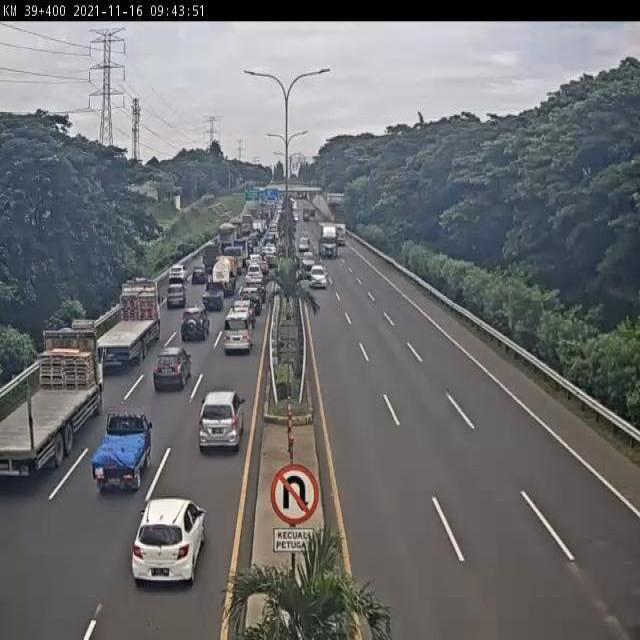car: (132, 497, 205, 587), (93, 412, 152, 491), (199, 392, 244, 451), (153, 347, 191, 388), (223, 314, 253, 354), (181, 308, 211, 344), (202, 279, 226, 312), (230, 300, 254, 333), (240, 287, 262, 313), (167, 284, 187, 308), (248, 277, 268, 299), (189, 265, 206, 287), (310, 265, 326, 287), (169, 265, 188, 283), (246, 265, 264, 284), (301, 250, 315, 270), (248, 254, 264, 266), (299, 236, 308, 252)
small truck: (200, 242, 221, 270), (224, 246, 243, 274)
truck-l-: (0, 330, 102, 470), (98, 280, 161, 363), (319, 224, 337, 257)
truck-m-: (212, 258, 235, 298), (217, 223, 237, 253)
